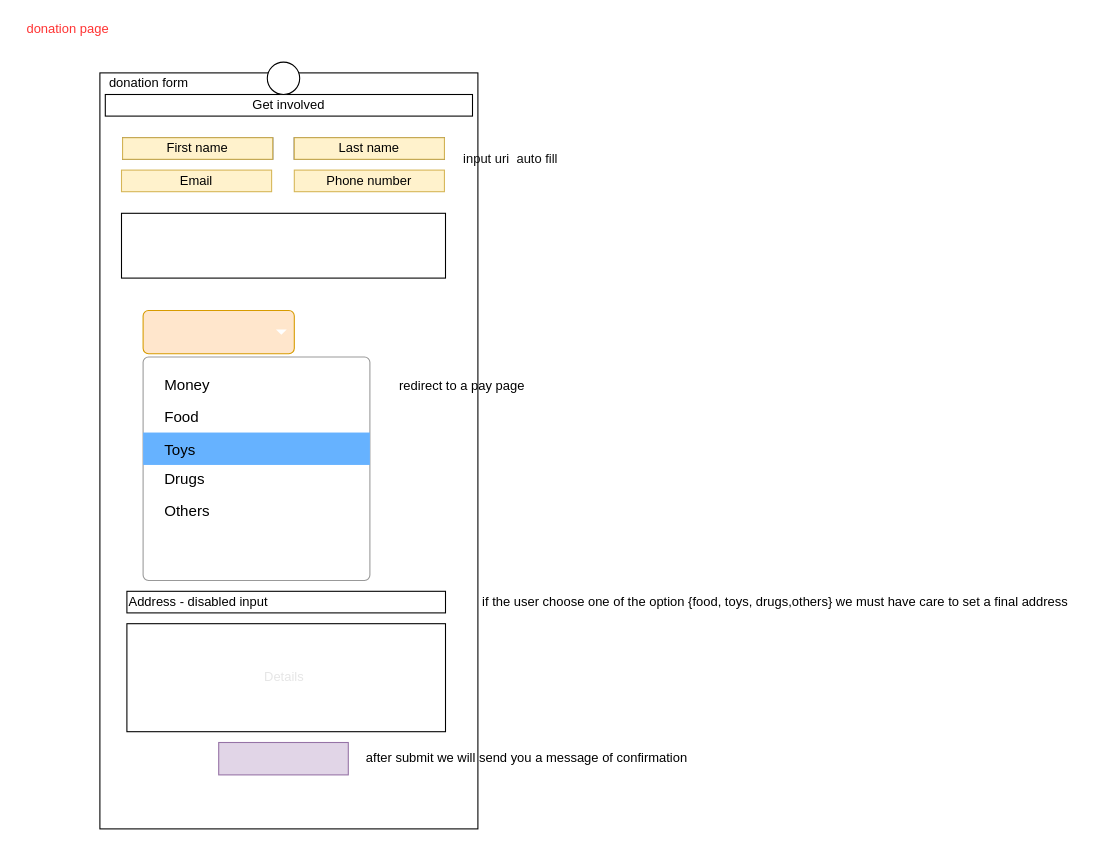
This 1095x848 diagram has some shape labels left out. The centre of each missing label's shape, as x and y in pixels:
"I want to donate" belongs at (218,331).
"logo" belongs at (283,77).
"Submit" belongs at (283,758).
"What do you want to donate? Choose from list" belongs at (283,245).
